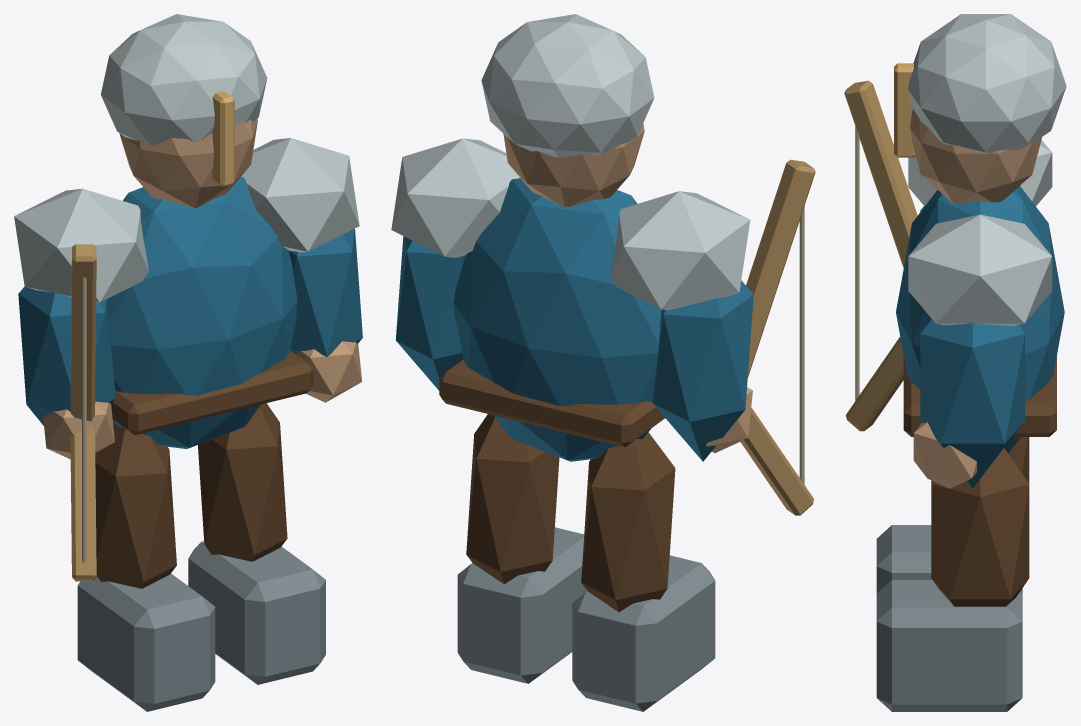
The model's file is archer.glb.
3 renders of one model, left to right at view 1: azimuth 30°, elevation 25°; view 2: azimuth 150°, elevation 25°; view 3: azimuth 270°, elevation 25°, orthographic. The views are drawn at different scales.
Visible parts, largest first — view 1: Torso.003, Helmet.002, BootL.003, BootR.003, LegL.003, LegR.003, Pauldron.004, Pauldron.005, ArmL.003, ArmR.003, Belt.003, Head.003 (+6 smaller); view 2: Torso.003, Helmet.002, BootL.003, LegL.003, BootR.003, Pauldron.004, ArmL.003, LegR.003, Pauldron.005, Belt.003, ArmR.003, Head.003 (+4 smaller); view 3: Helmet.002, BootR.003, Pauldron.005, ArmR.003, LegR.003, Torso.003, Head.003, Bow upper, BootL.003, Belt.003, HandR.003, Bow lower (+4 smaller).
Part boxes in pixels (bbox=[...]): Torso.003: bbox=[107, 177, 297, 448]; Helmet.002: bbox=[100, 14, 267, 145]; BootL.003: bbox=[77, 573, 215, 711]; BootR.003: bbox=[188, 541, 325, 684]; LegL.003: bbox=[95, 422, 176, 588]; LegR.003: bbox=[198, 403, 287, 561]; Pauldron.004: bbox=[14, 188, 148, 302]; Pauldron.005: bbox=[241, 138, 359, 252]; ArmL.003: bbox=[18, 286, 115, 425]; ArmR.003: bbox=[289, 228, 362, 356]; Belt.003: bbox=[111, 350, 313, 435]; Head.003: bbox=[119, 119, 257, 208]; Torso.003: bbox=[453, 178, 661, 461]; Helmet.002: bbox=[481, 14, 654, 157]; BootL.003: bbox=[572, 555, 715, 711]; LegL.003: bbox=[581, 432, 675, 612]; BootR.003: bbox=[457, 527, 586, 683]; Pauldron.004: bbox=[610, 191, 750, 310]; ArmL.003: bbox=[652, 280, 753, 461]; LegR.003: bbox=[466, 414, 559, 584]; Pauldron.005: bbox=[391, 138, 520, 257]; Belt.003: bbox=[439, 359, 664, 447]; ArmR.003: bbox=[395, 236, 464, 390]; Head.003: bbox=[503, 123, 644, 206]; Helmet.002: bbox=[908, 14, 1066, 153]; BootR.003: bbox=[876, 580, 1022, 711]; Pauldron.005: bbox=[908, 214, 1052, 326]; ArmR.003: bbox=[920, 319, 1024, 488]; LegR.003: bbox=[931, 448, 1029, 606]; Torso.003: bbox=[896, 186, 1064, 453]; Head.003: bbox=[910, 108, 1041, 203]; Bow upper: bbox=[844, 80, 917, 267]; BootL.003: bbox=[876, 525, 1022, 593]; Belt.003: bbox=[903, 356, 1056, 436]; HandR.003: bbox=[913, 422, 976, 488]; Bow lower: bbox=[846, 337, 903, 431].
Bounding box in the file's own units: 1.04 × 1.87 × 0.5793.
